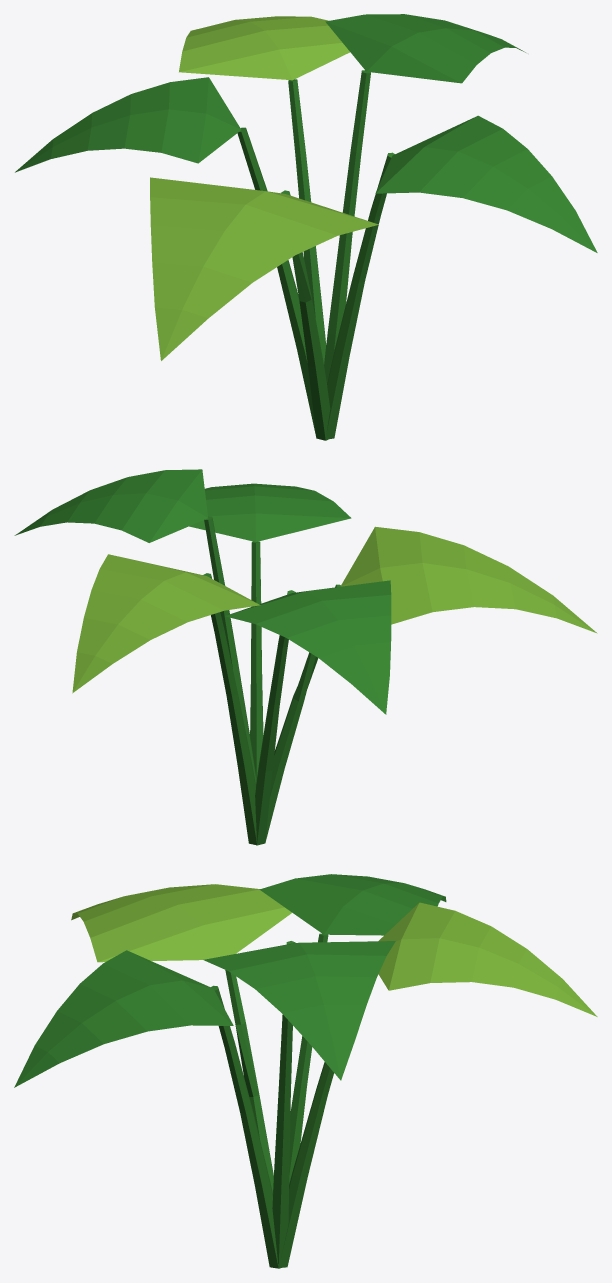
File: elephant_ear.glb
3 renders of one model, top to bottom at view 1: azimuth 30°, elevation 25°; view 2: azimuth 150°, elevation 25°; view 3: azimuth 270°, elevation 25°, orthographic. The views are drawn at different scales.
Visible parts, largest first — view 1: elephant_ear; view 2: elephant_ear; view 3: elephant_ear.
Part boxes in pixels (box(x1,y1,x2,y2)): elephant_ear: box(15, 14, 597, 440); elephant_ear: box(14, 469, 597, 845); elephant_ear: box(14, 874, 597, 1268).
Size of the model in its own units: 3.29 by 2.29 by 3.34.
